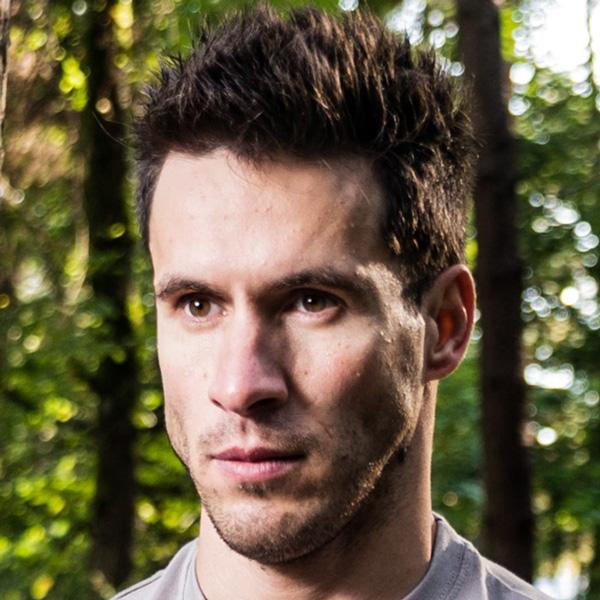Eyes: (276, 281, 346, 328), (168, 284, 227, 329)
